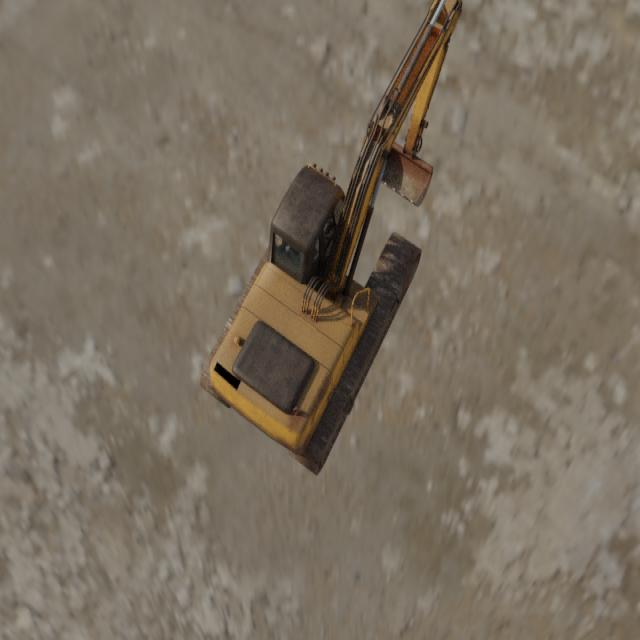excavator: (199, 0, 462, 477)
